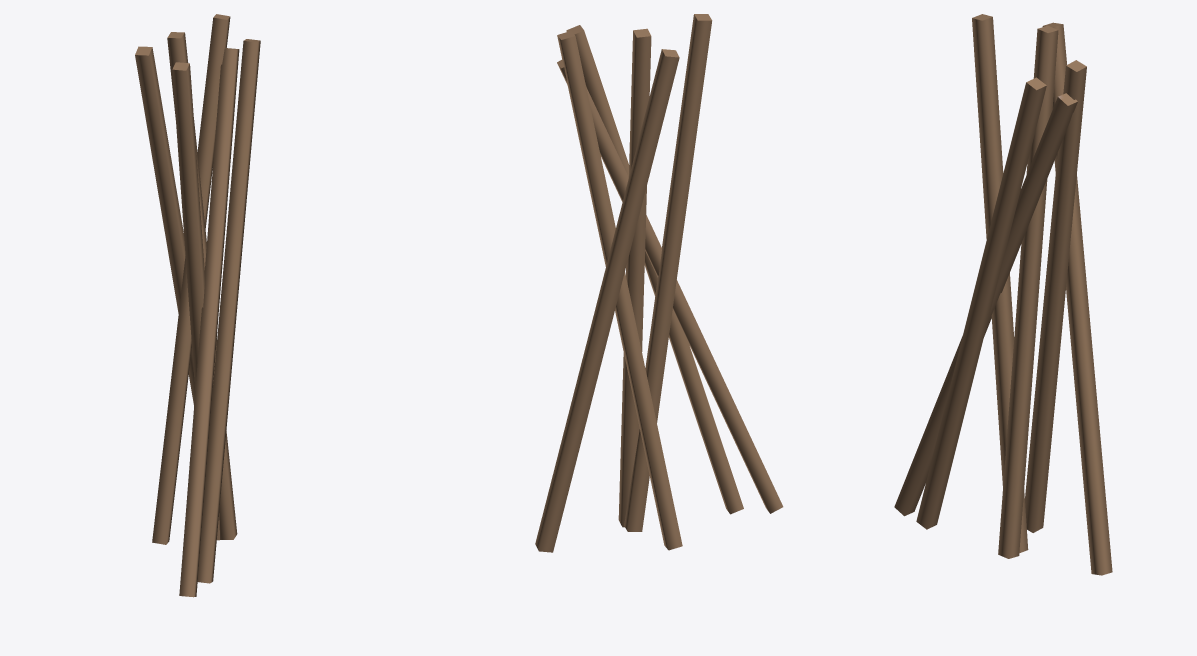
The model's file is gg_Incense-Bottle.FBX.
3 views of the same model, side by side, from view 1: azimuth 30°, elevation 25°; view 2: azimuth 150°, elevation 25°; view 3: azimuth 270°, elevation 25° (orthographic). The views are drawn at different scales.
Parts seen in each view (by area): view 1: gg_Incense-Bottle; view 2: gg_Incense-Bottle; view 3: gg_Incense-Bottle.
Part boxes in pixels (x1=…): gg_Incense-Bottle: x1=135, y1=14, x2=260, y2=597; gg_Incense-Bottle: x1=535, y1=14, x2=783, y2=552; gg_Incense-Bottle: x1=894, y1=14, x2=1112, y2=575.
Bounding box in the file's own units: 10 × 18.49 × 10.
1 material, 1 textured.
